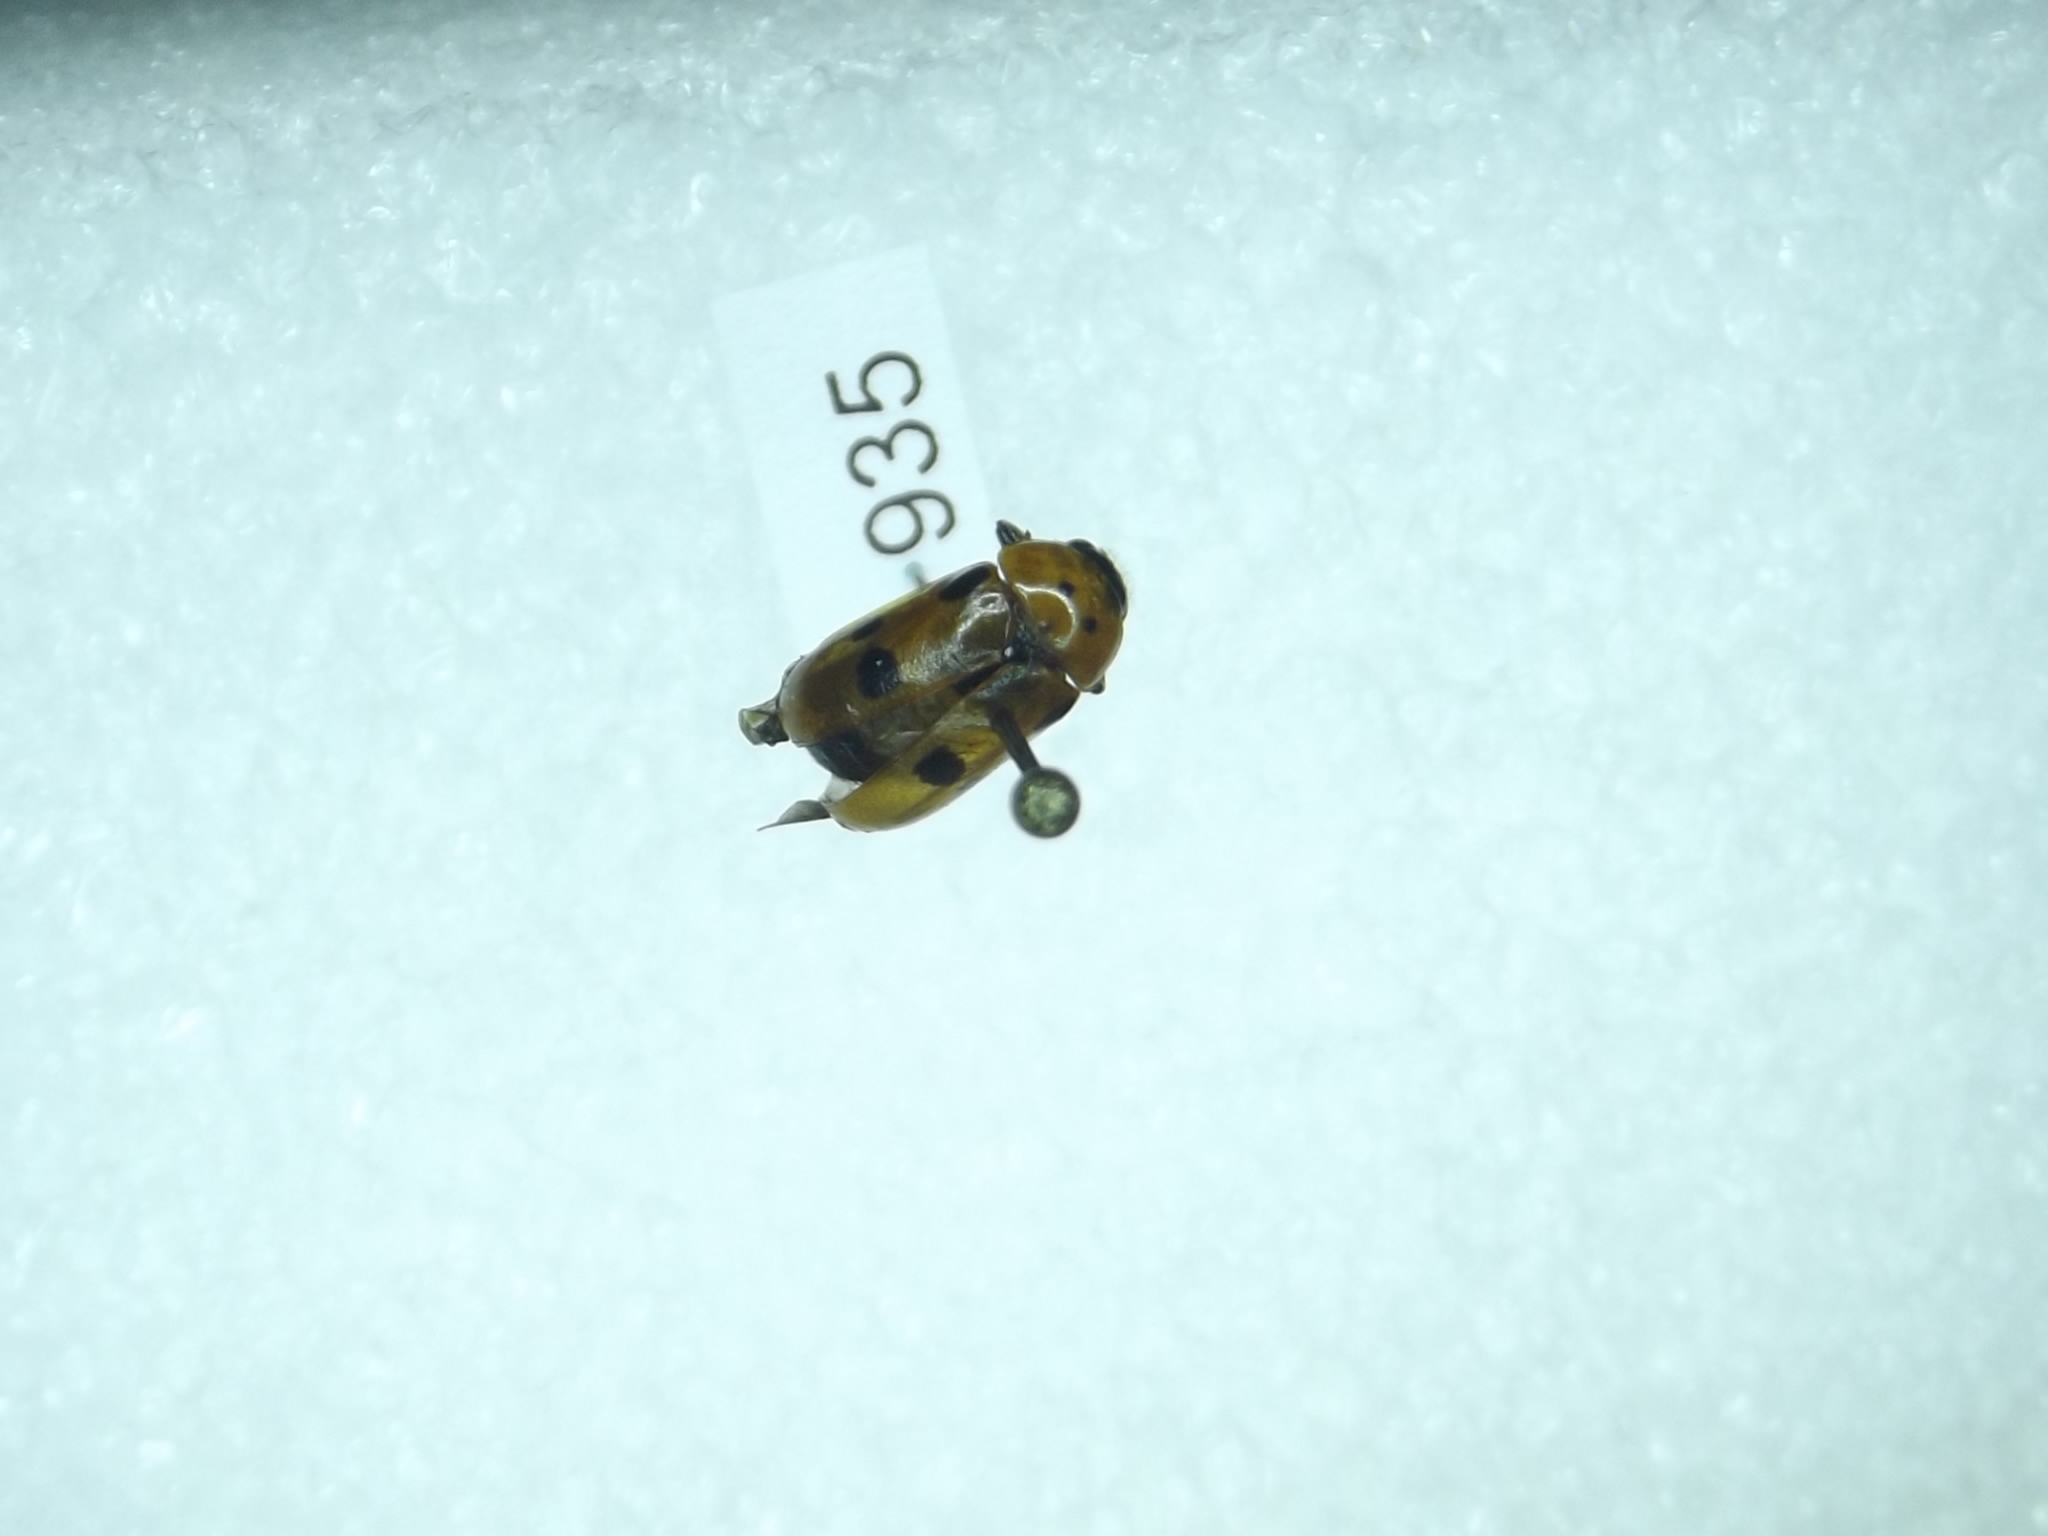Clytra_novempunctata: (719, 516, 1143, 837)
